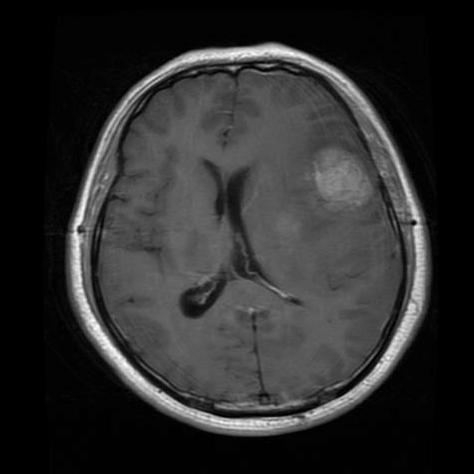Tumour-Meningioma: (283, 132, 385, 235)
